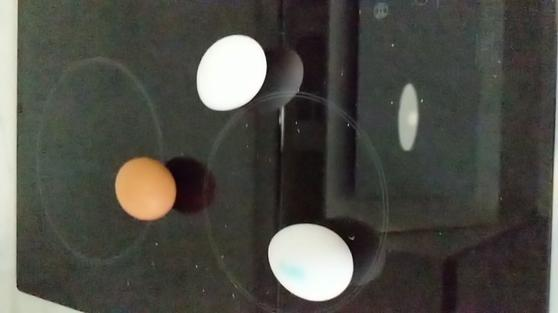egg: (268, 219, 357, 302), (192, 31, 270, 113), (114, 156, 179, 222)
